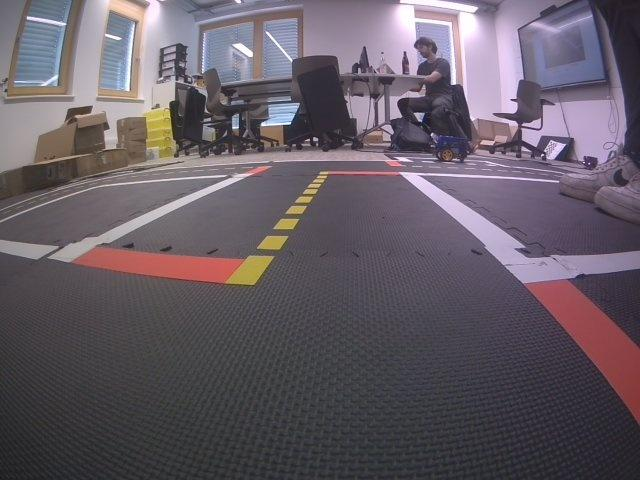bot: (428, 132, 474, 164)
park: (395, 156, 507, 167)
